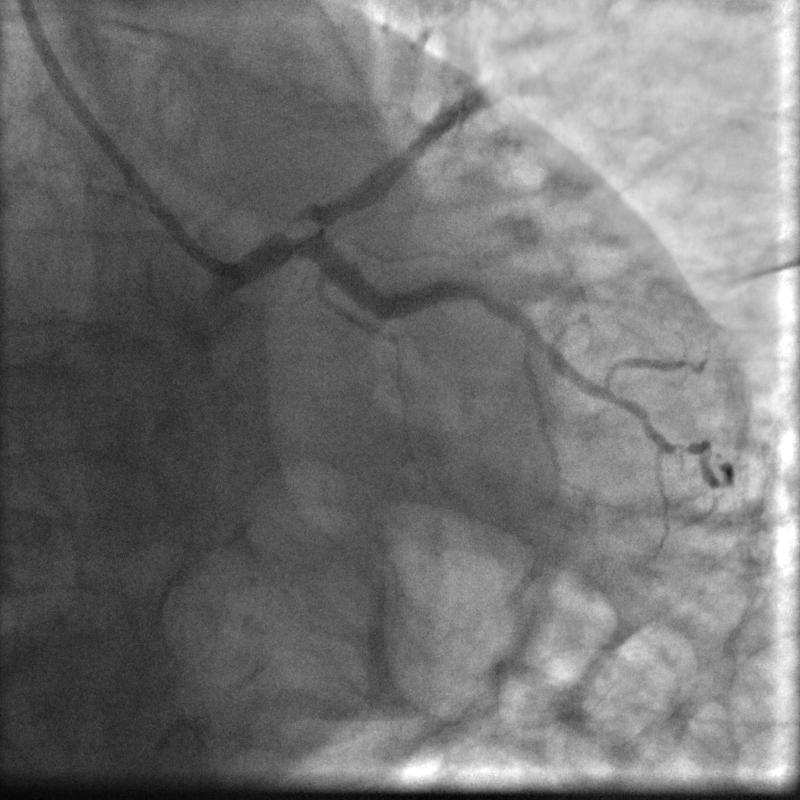Stenosis: (280, 206, 327, 259)
